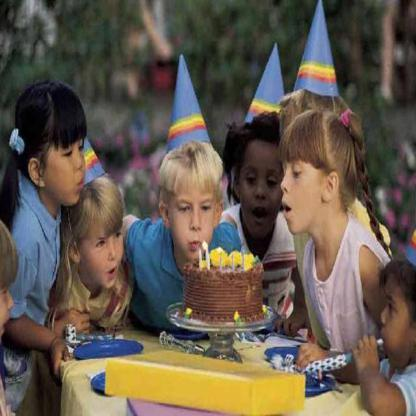face: (284, 125, 325, 235), (48, 100, 87, 205), (170, 172, 216, 259), (243, 139, 282, 238), (82, 204, 124, 288), (382, 276, 409, 371)
